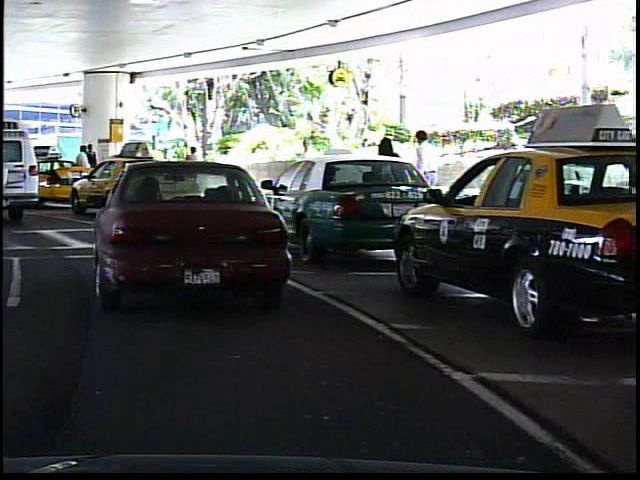person: (408, 122, 447, 226), (369, 128, 403, 226), (290, 132, 318, 203), (179, 140, 205, 190), (75, 144, 92, 197), (85, 141, 100, 193)
